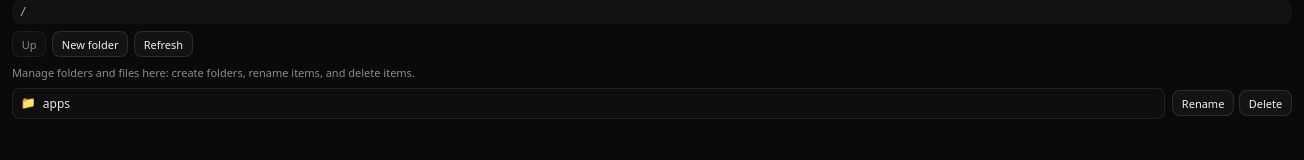
Scenario: WorkspaceFilePanel - Folder Navigation Unit Tests › Clicking folder navigates into it (Requirement 4.1) › should navigate into nested folders
Click the text "apps". click: (56, 103)
box: [43,95,70,112]
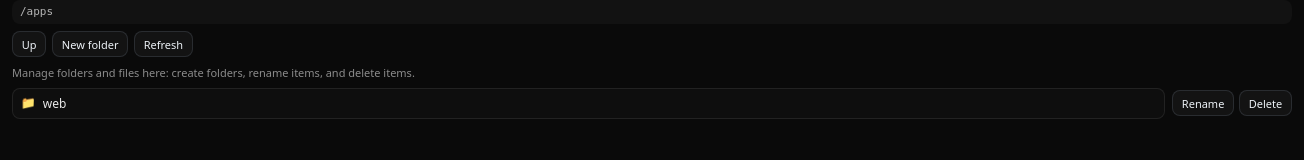
Result: the text "/apps" is shown at [12,0,1292,24]
Result: the text "web" is shown
Click the text "web". click: (55, 103)
box: [43,95,66,112]
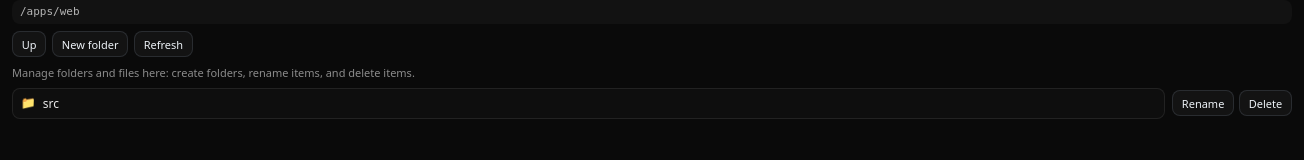
Result: the text "/apps/web" is shown at [12,0,1292,24]
Result: the text "src" is shown at [43,95,59,112]
